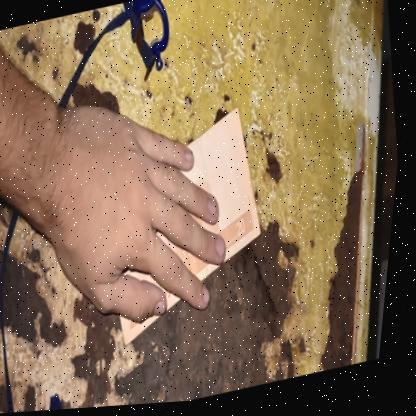twenty-back-vef: (95, 104, 290, 349)
